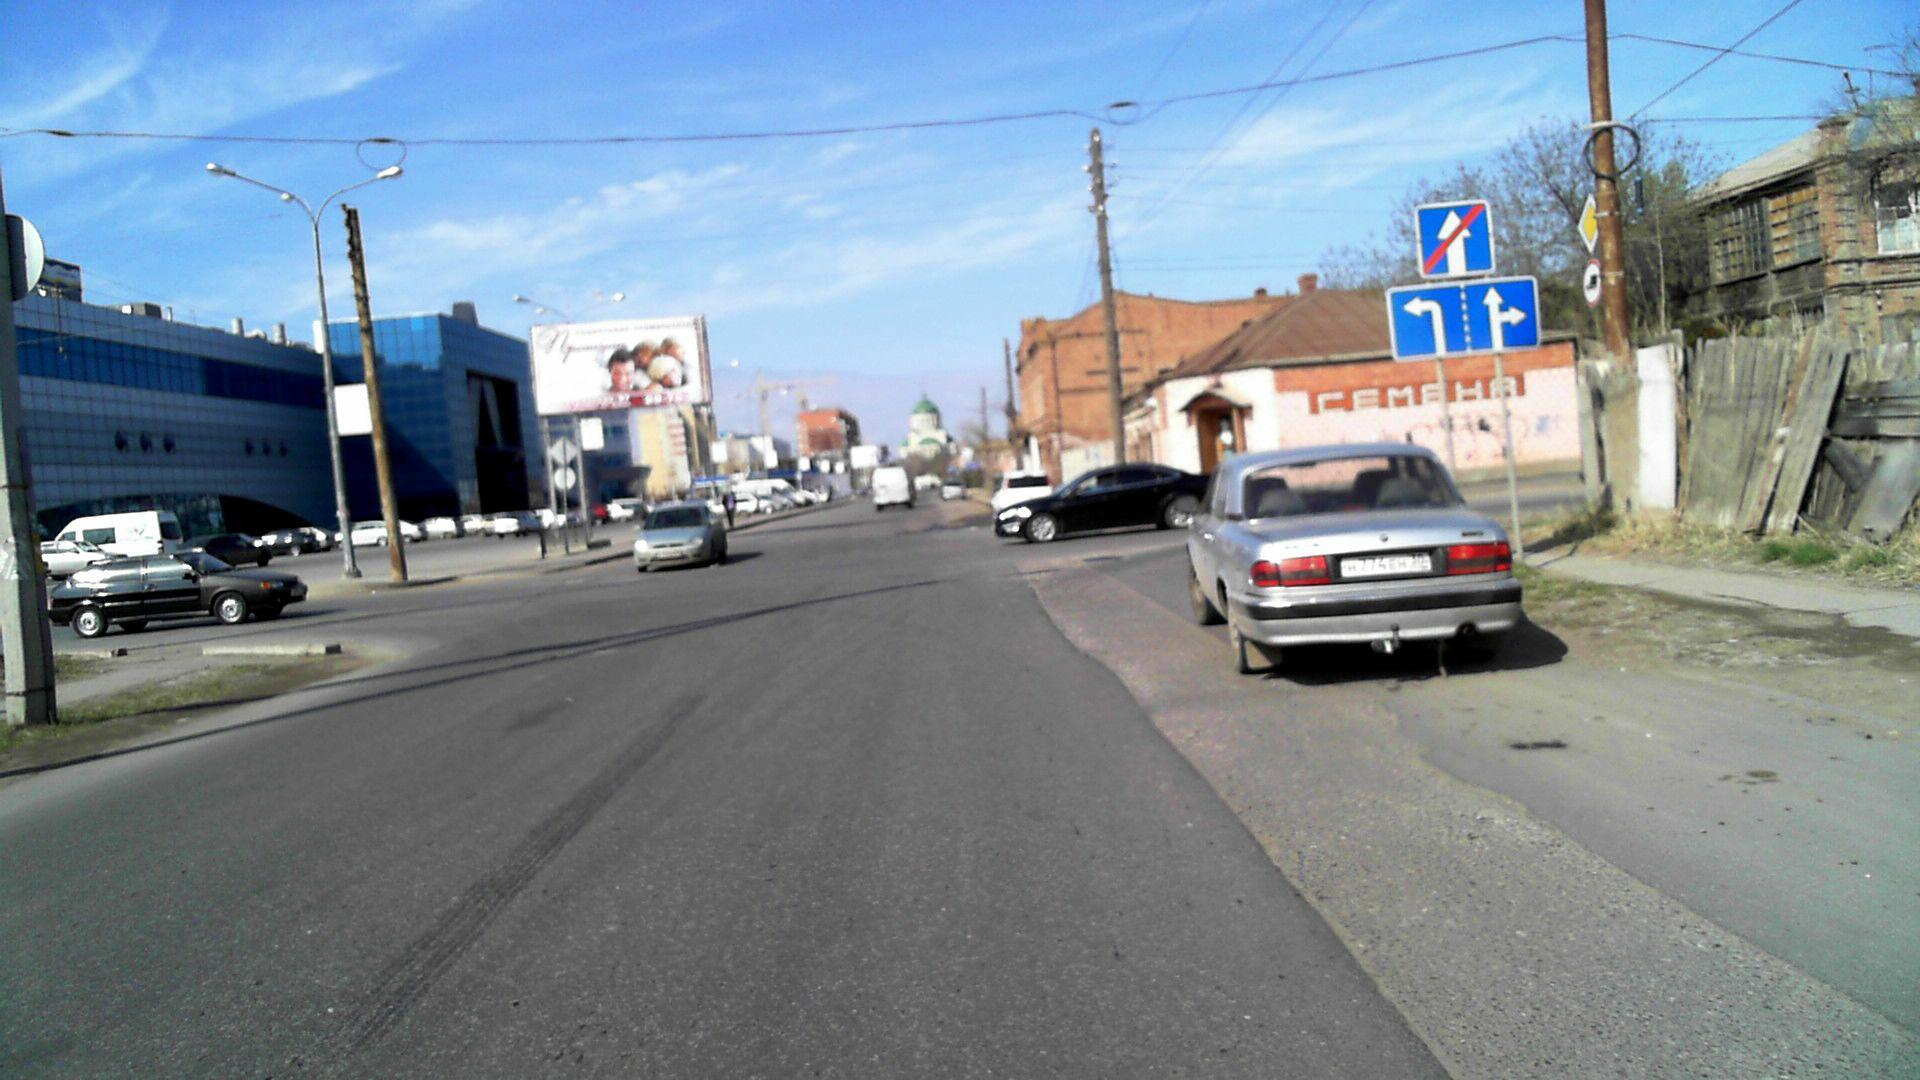2_1: (1571, 196, 1604, 249)
3_4: (1578, 258, 1602, 302)
5_15_1: (1387, 278, 1543, 357)
5_6: (1416, 200, 1494, 280)
